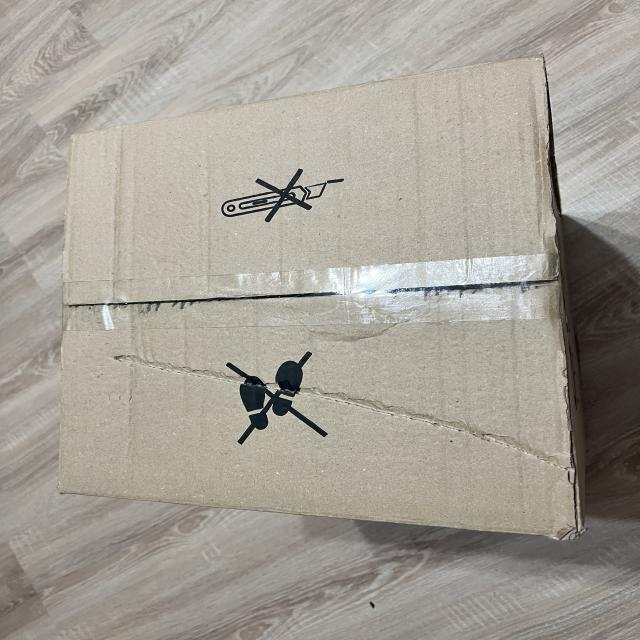damaged: (50, 50, 591, 545), (111, 335, 565, 475)
